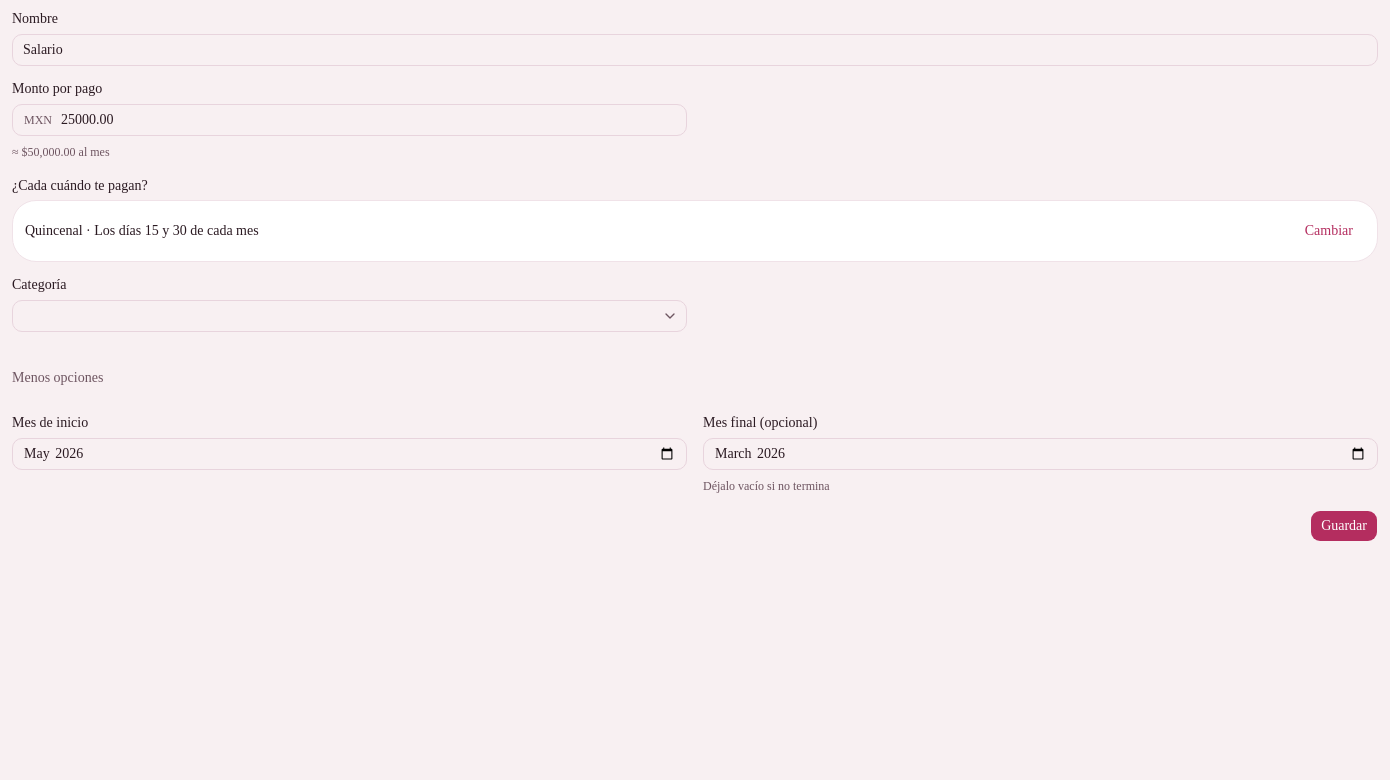
Test: TemplateForm › rejects an end month before the start month
The width and height of the screenshot is (1390, 780).
Click the button "Guardar" at (1344, 526), box [1310, 510, 1378, 542]
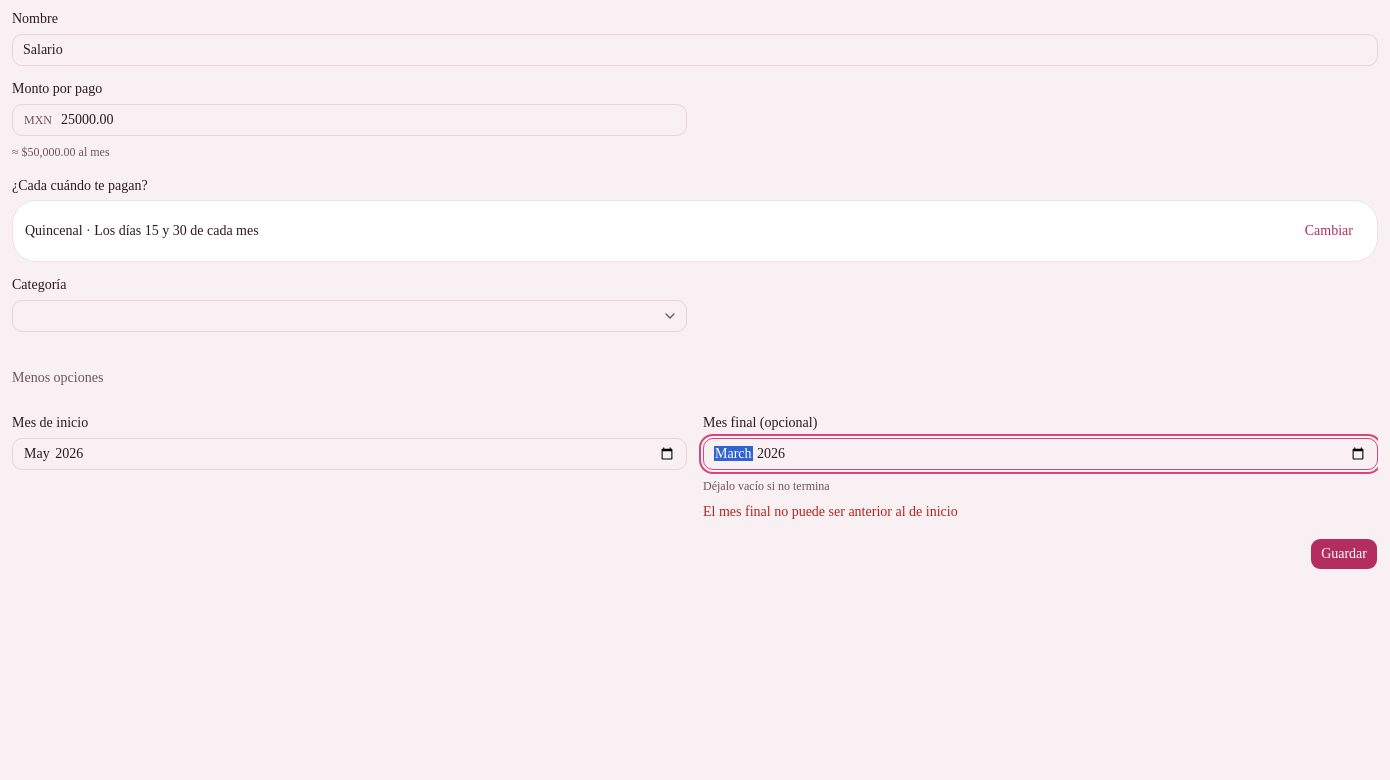
Result: the text "El mes final no puede ser anterior al de inicio" is shown at [703, 504, 958, 519]
